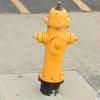a fire hydrant: (37, 4, 76, 86)
